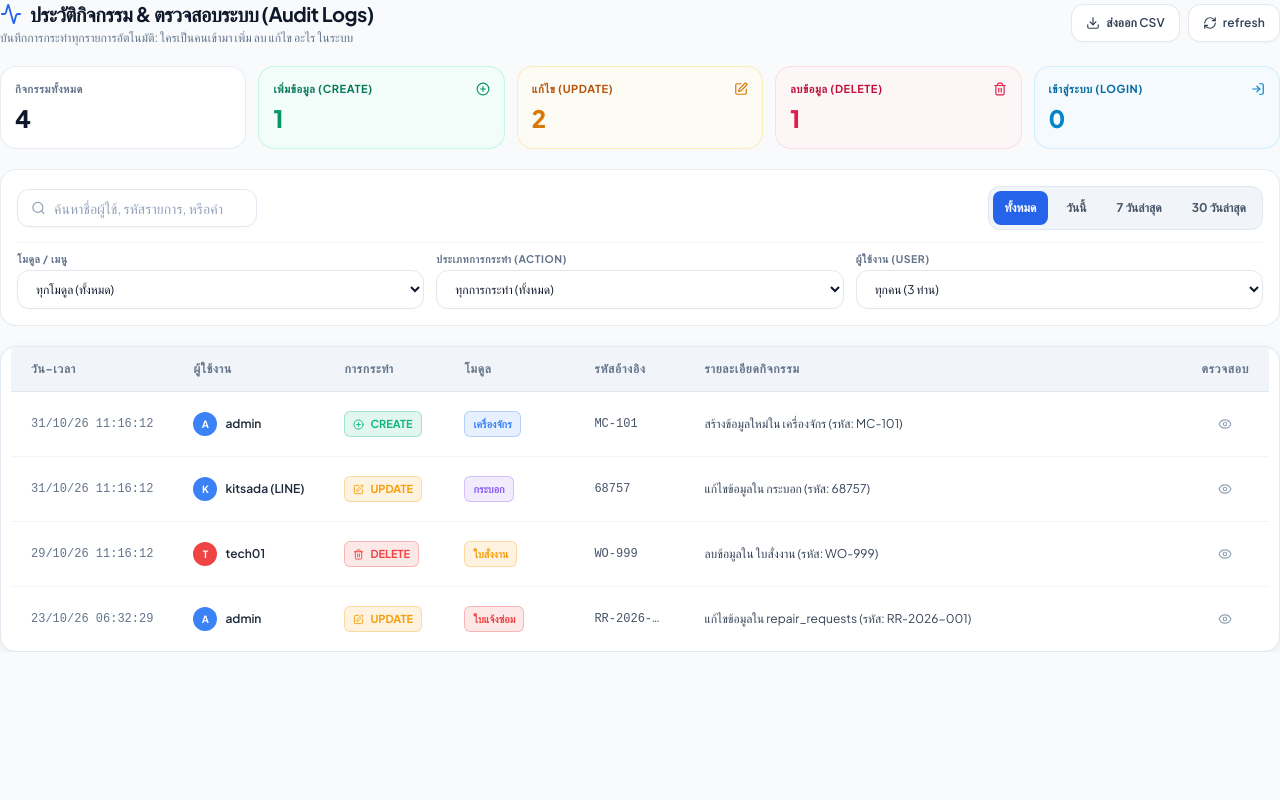
Test: Logs - Enterprise Audit Log System › opens detail modal with Before vs After comparison when clicking a row
This screenshot has width=1280, height=800.
Click the text "68757". click: (629, 489)
box: [574,457,684,522]
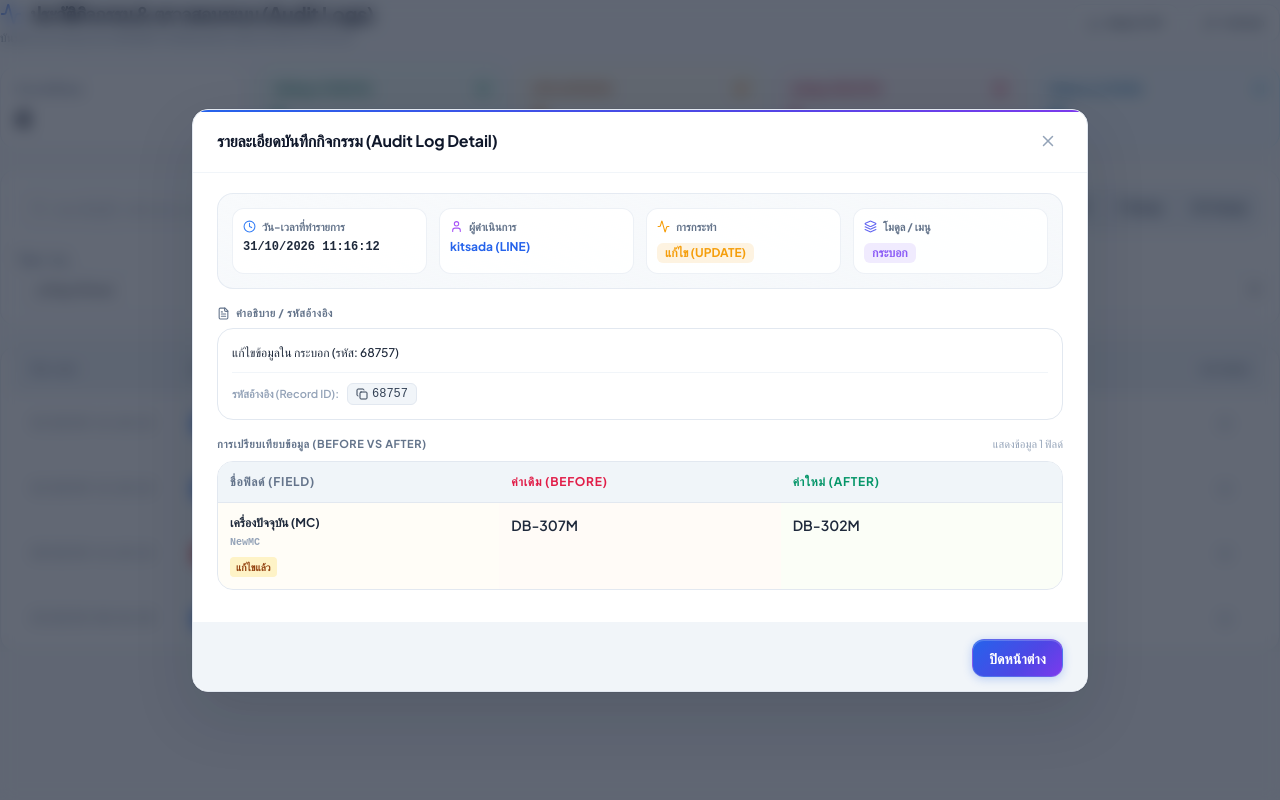
Expected: the heading "รายละเอียดบันทึกกิจกรรม (Audit Log Detail)" is shown, [217,128,498,152]
Expected: the text "การเปรียบเทียบข้อมูล (Before vs After)" is shown, [217,436,427,452]
Expected: the text "DB-307M" is shown, [511,516,578,534]
